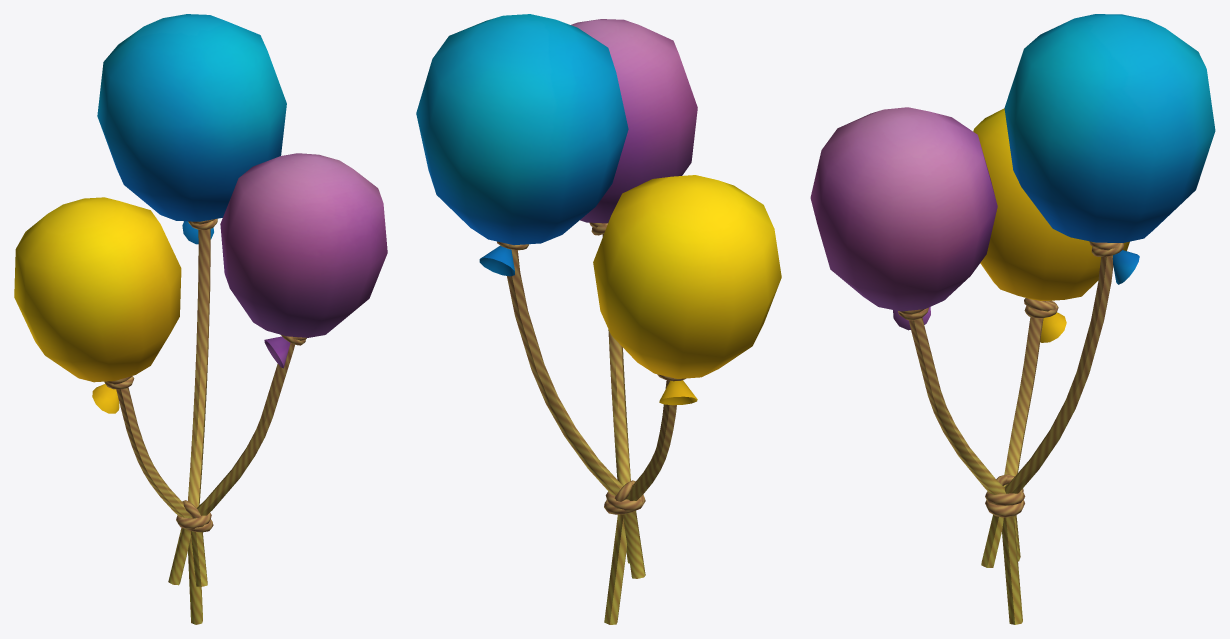
File: SE_Baloons_01.fbx
3 renders of one model, left to right at view 1: azimuth 30°, elevation 25°; view 2: azimuth 150°, elevation 25°; view 3: azimuth 270°, elevation 25°, orthographic. The views are drawn at different scales.
Visible parts, largest first — view 1: SE_Baloons_01; view 2: SE_Baloons_01; view 3: SE_Baloons_01.
Part boxes in pixels (x1,y1,x2,y2): SE_Baloons_01: (14,14,387,624); SE_Baloons_01: (416,14,781,624); SE_Baloons_01: (810,14,1215,624).
Bounding box in the file's own units: 3.16 × 5.94 × 3.5.
